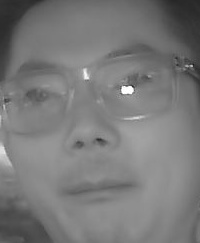glass: (88, 50, 180, 119), (2, 68, 75, 136)
mouth: (67, 172, 133, 206)
